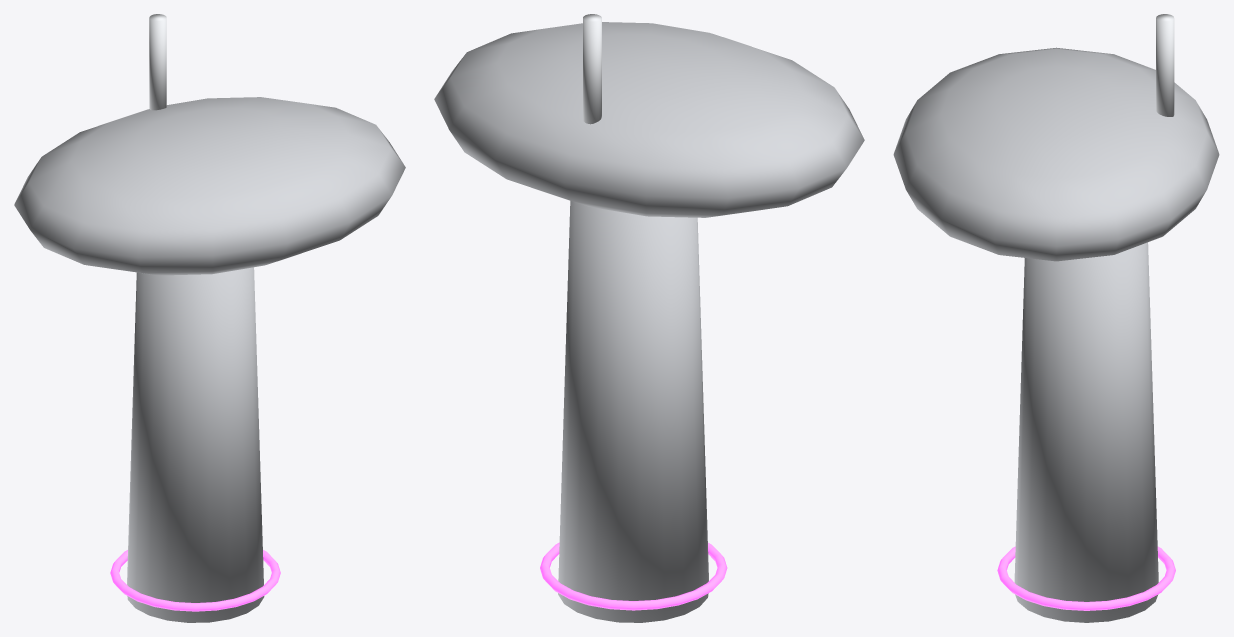
File: sink_vanity_pedestal.glb
3 renders of one model, left to right at view 1: azimuth 30°, elevation 25°; view 2: azimuth 150°, elevation 25°; view 3: azimuth 270°, elevation 25°, orthographic. The views are drawn at different scales.
Parts seen in each view (by area): view 1: GD_sink_vanity_pedestal__m0, GD_sink_vanity_pedestal__m2, GD_sink_vanity_pedestal__m1; view 2: GD_sink_vanity_pedestal__m0, GD_sink_vanity_pedestal__m2, GD_sink_vanity_pedestal__m1; view 3: GD_sink_vanity_pedestal__m0, GD_sink_vanity_pedestal__m2, GD_sink_vanity_pedestal__m1.
Part boxes in pixels (box(x1,y1,x2,y2)): GD_sink_vanity_pedestal__m0: box(14, 97, 405, 622); GD_sink_vanity_pedestal__m2: box(110, 550, 280, 611); GD_sink_vanity_pedestal__m1: box(149, 14, 166, 110); GD_sink_vanity_pedestal__m0: box(434, 22, 864, 622); GD_sink_vanity_pedestal__m2: box(540, 542, 727, 610); GD_sink_vanity_pedestal__m1: box(583, 14, 601, 124); GD_sink_vanity_pedestal__m0: box(893, 47, 1219, 622); GD_sink_vanity_pedestal__m2: box(997, 546, 1175, 610); GD_sink_vanity_pedestal__m1: box(1156, 14, 1174, 116).
Bounding box in the file's own units: 0.72 × 1.05 × 0.54.
